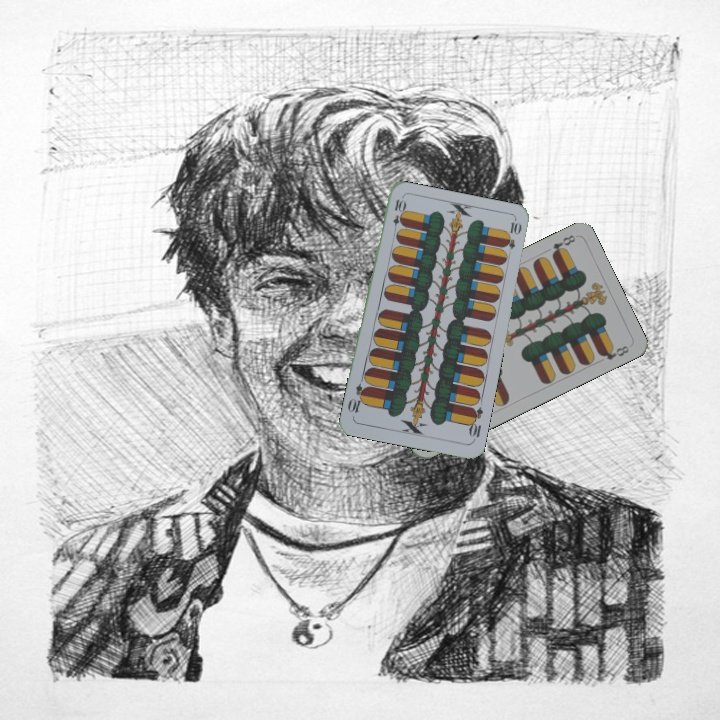E10: (464, 403, 485, 444), (389, 195, 406, 236)
E8: (548, 231, 578, 259)
